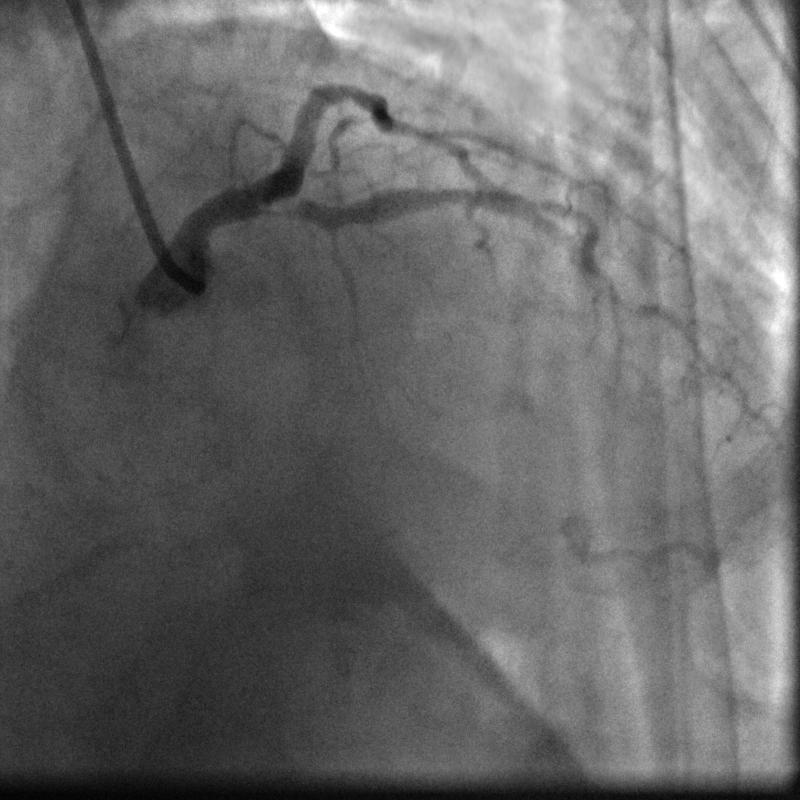Stenosis: (272, 191, 315, 227)
